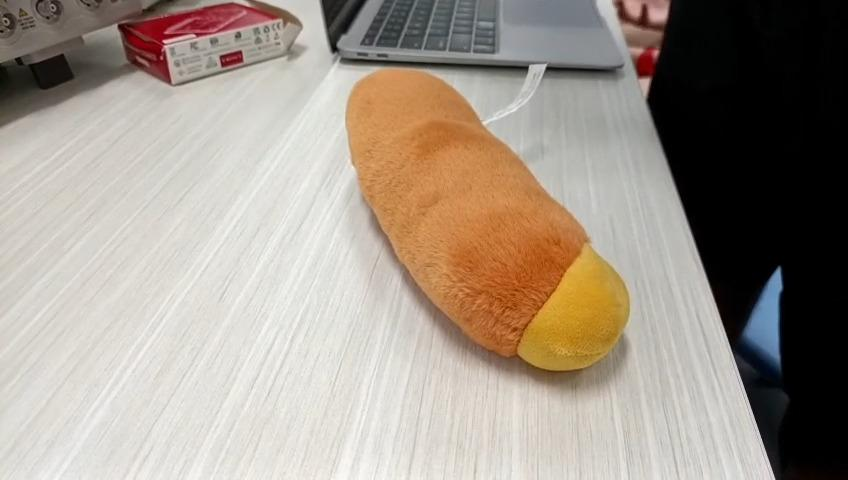hotdog: (345, 68, 630, 371)
